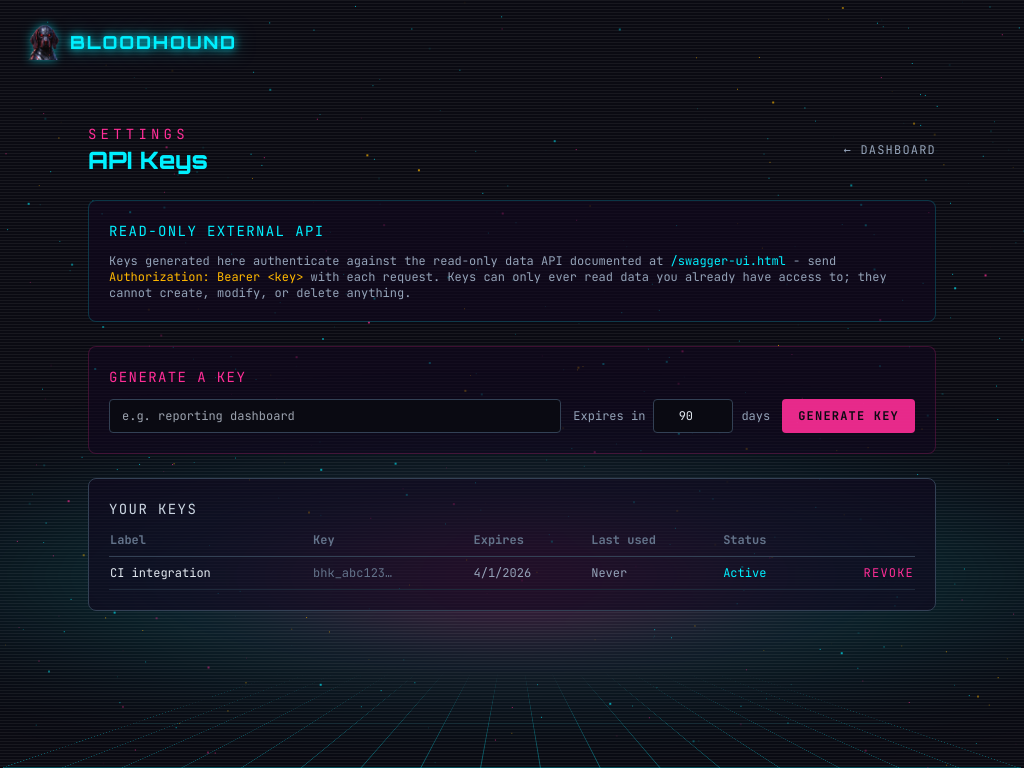
Test: ApiKeysPage › clicking Revoke opens a confirmation modal without firing the DELETE until confirmed
The image size is (1024, 768).
Check: the text "CI integration" is shown, box top-left (109, 556), bottom-right (312, 590)
What coordinates should you click on to do the following:
click the button "Revoke"
I would click on:
 (889, 573)
Its box is top-left (864, 565), bottom-right (914, 581).
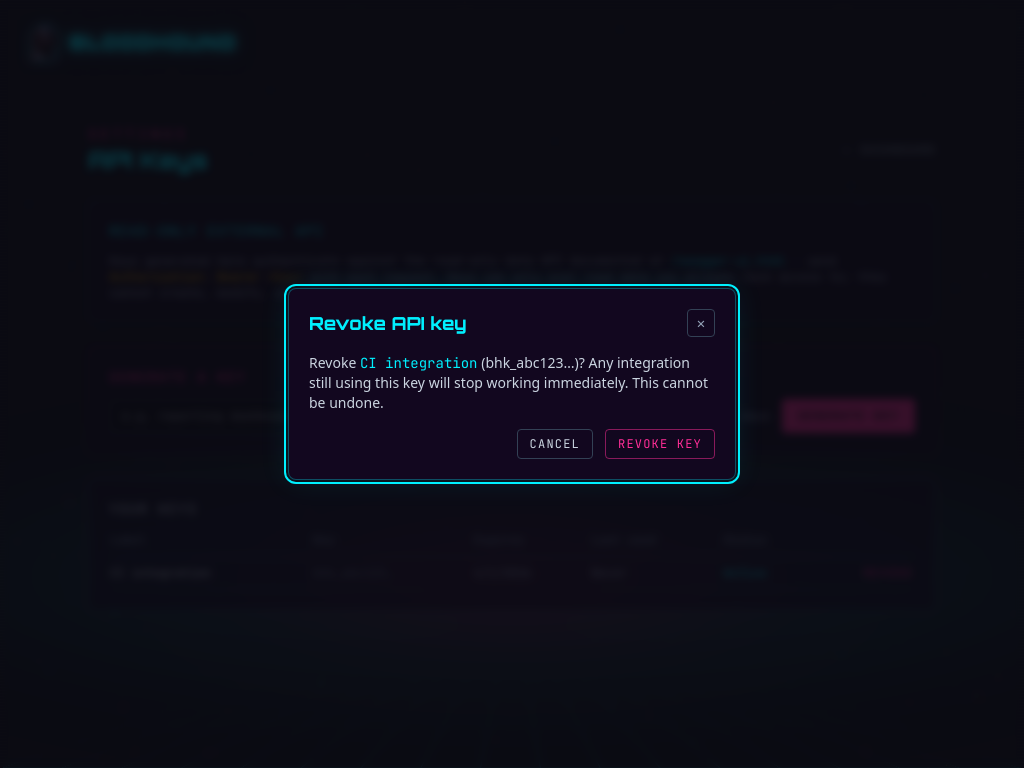
Check: the text "cannot be undone" is shown, box top-left (309, 353), bottom-right (708, 412)
What coordinates should you click on to do the following:
click the button "Cancel"
I would click on:
 (555, 444)
Its box is top-left (517, 429), bottom-right (593, 459).
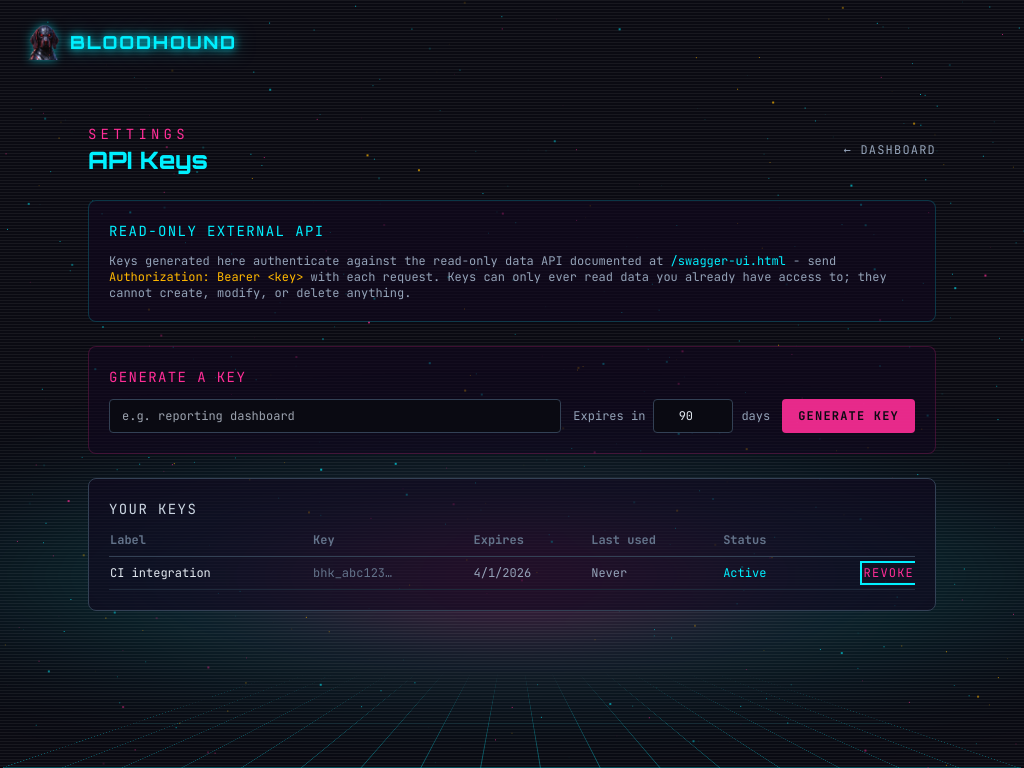
Check: the text "cannot be undone" is gone
